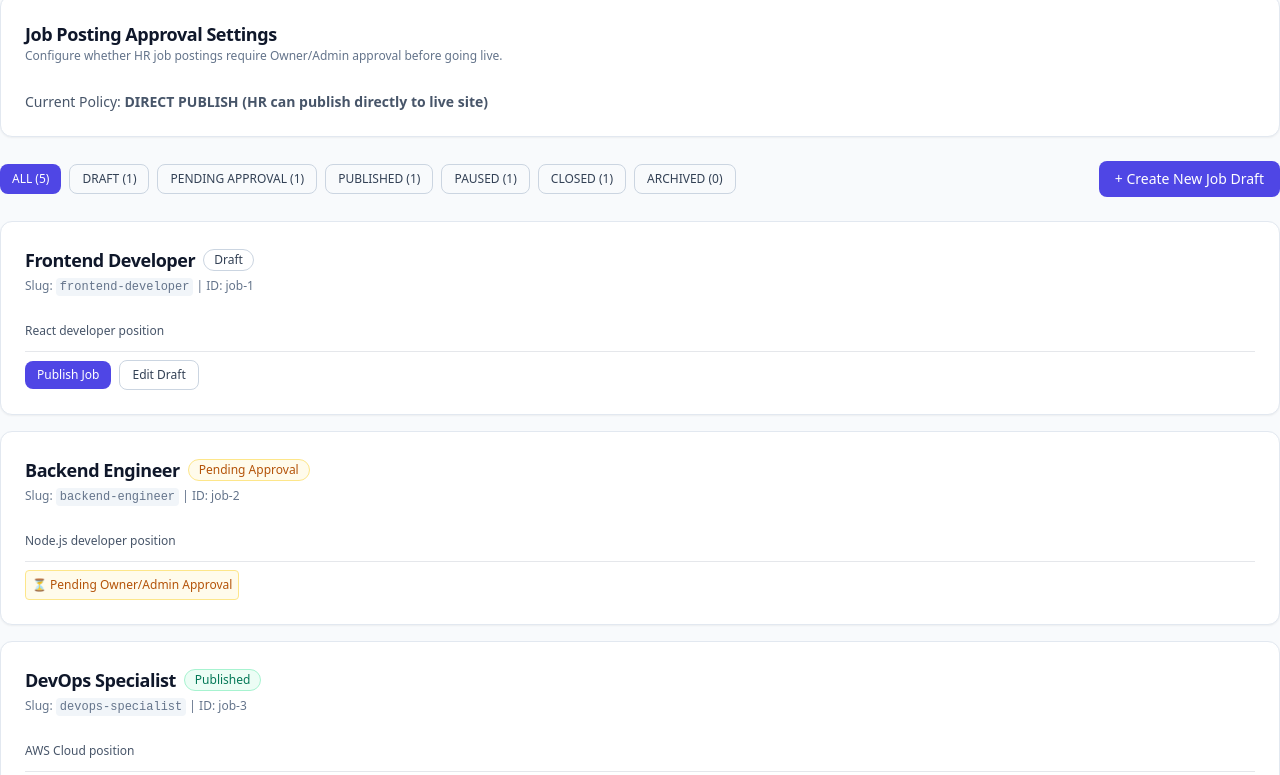
JobPostingManager Component › 3. Creates a new draft job via form submission
Click the button with test id "create-job-btn" at (1189,179), box [1099,161,1279,197]
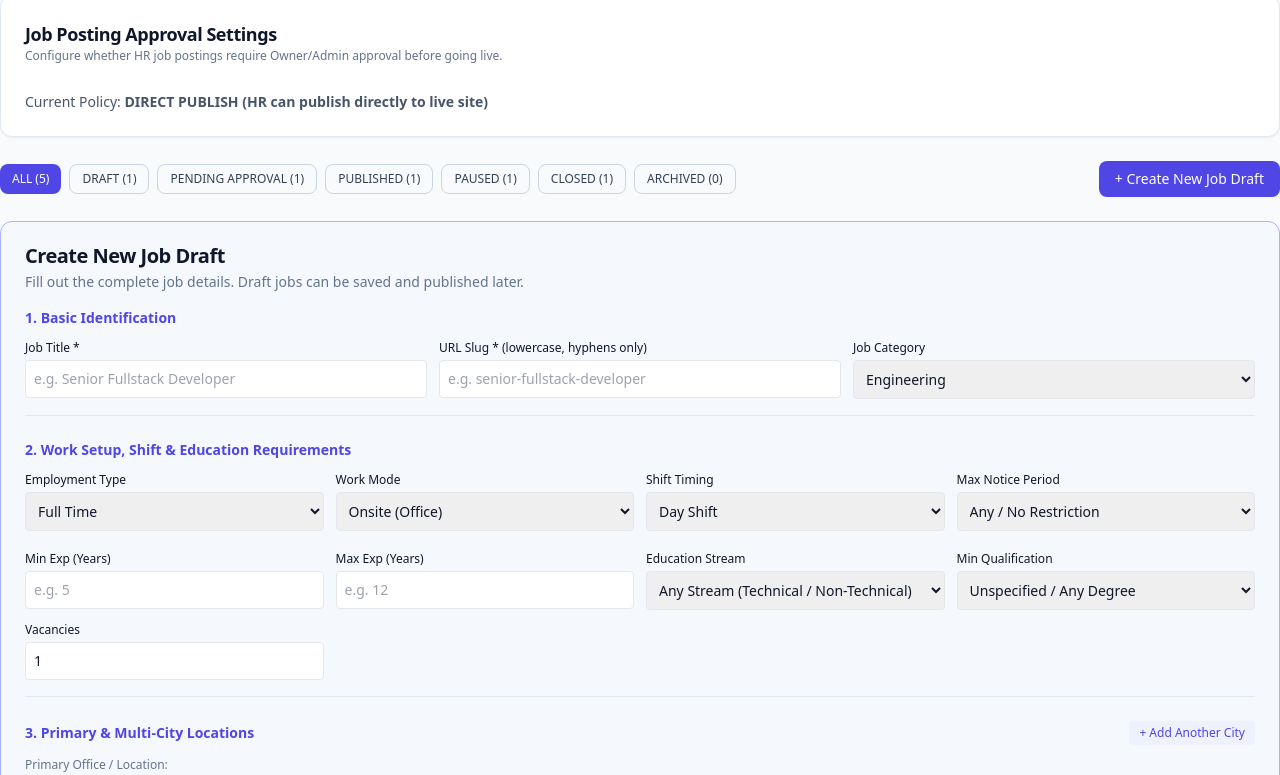
Type "Fullstack Architect" into the field with test id "input-job-title" at (226,379), box [25,360,427,398]
(page scrolled)
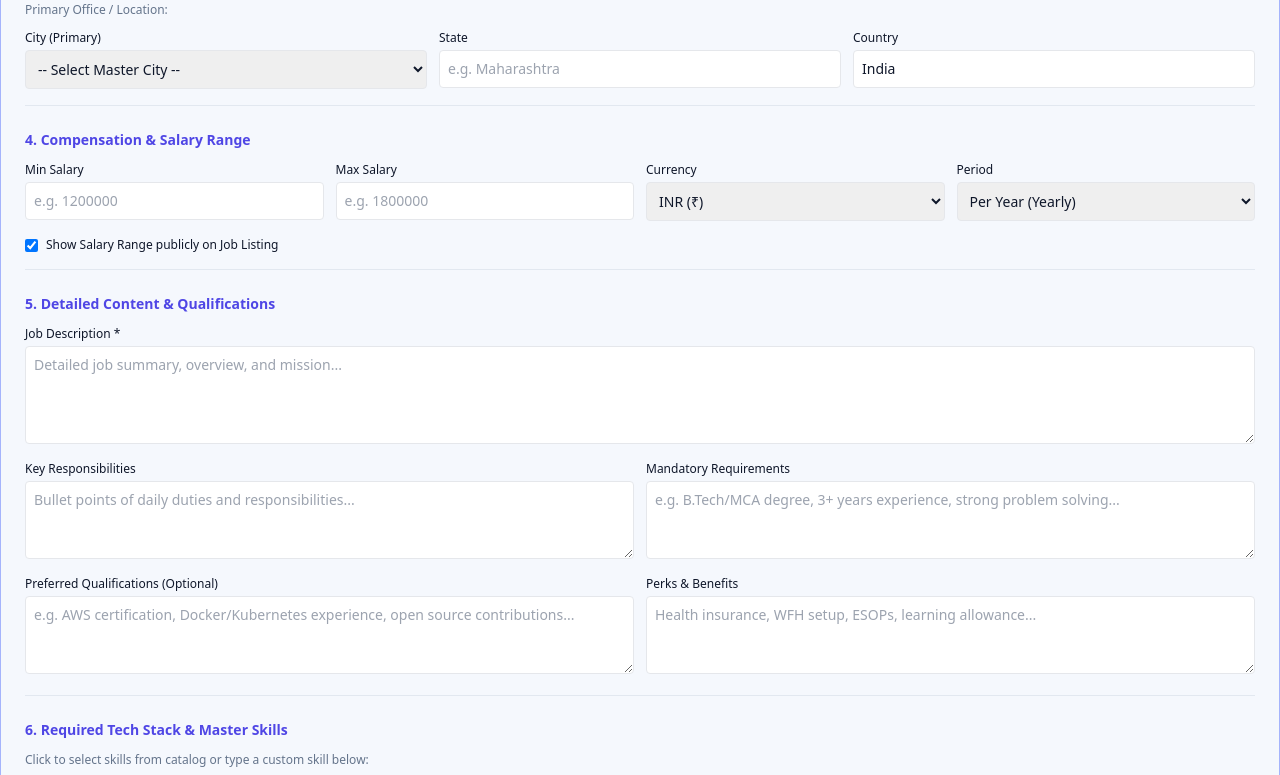
Type "System design role" into the text box with test id "input-job-description" at (640,395), box [25,346,1255,444]
(page scrolled)
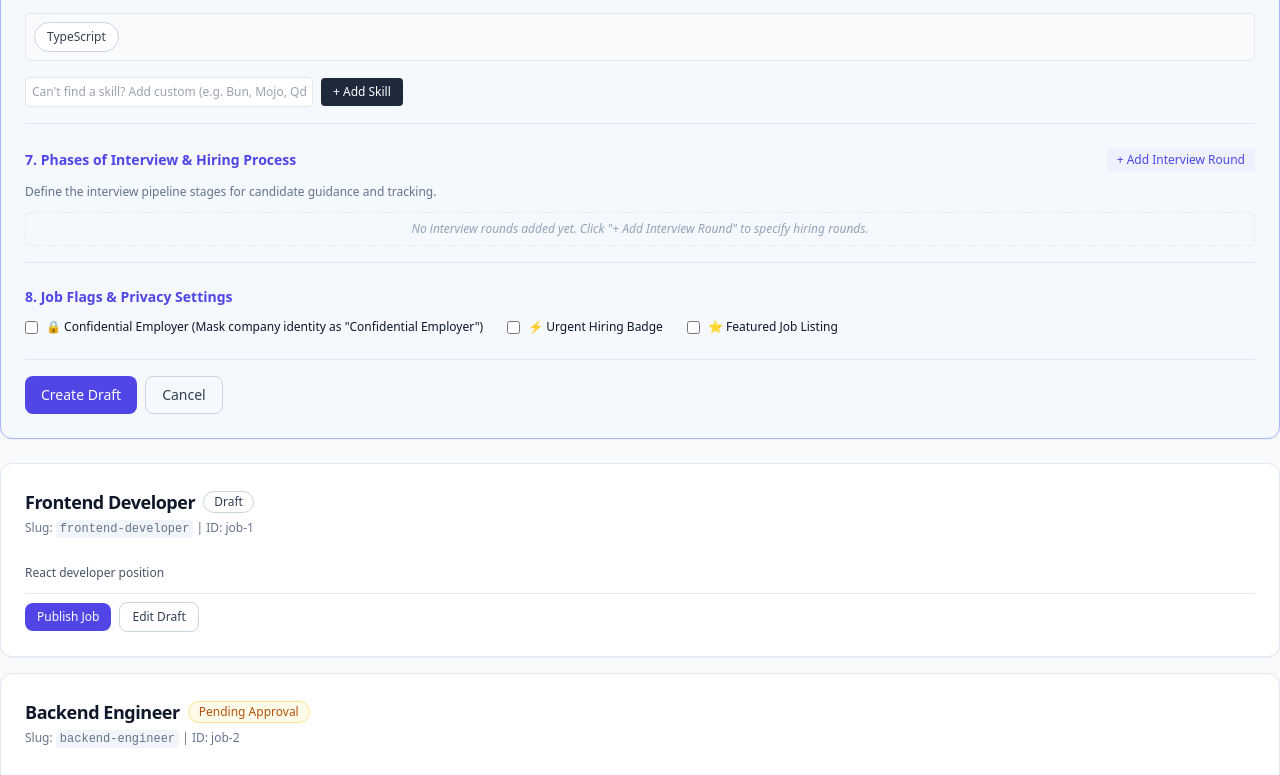
Click the button with test id "save-job-btn" at (81,395), box [25,376,137,414]
(page scrolled)
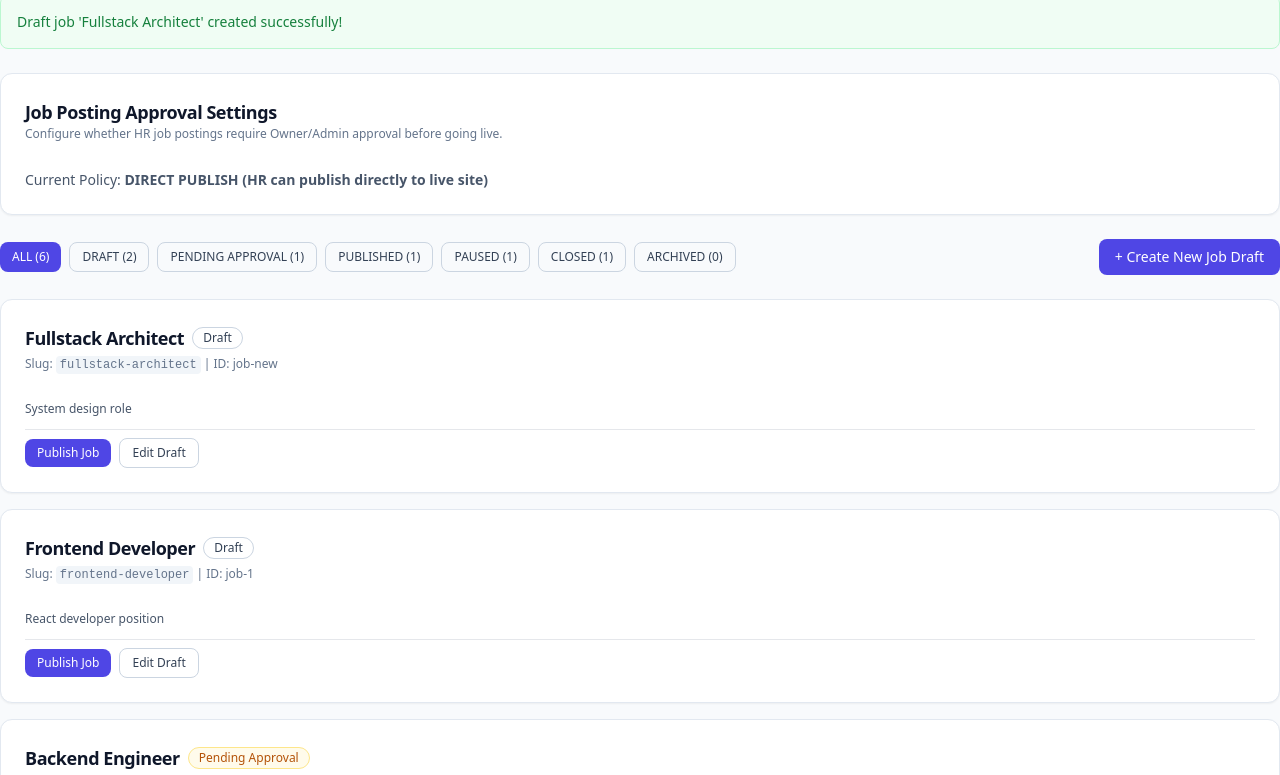
Result: the text with test id "job-manager-success" shows "Draft job 'Fullstack Architect' created" at [17,12,342,31]
